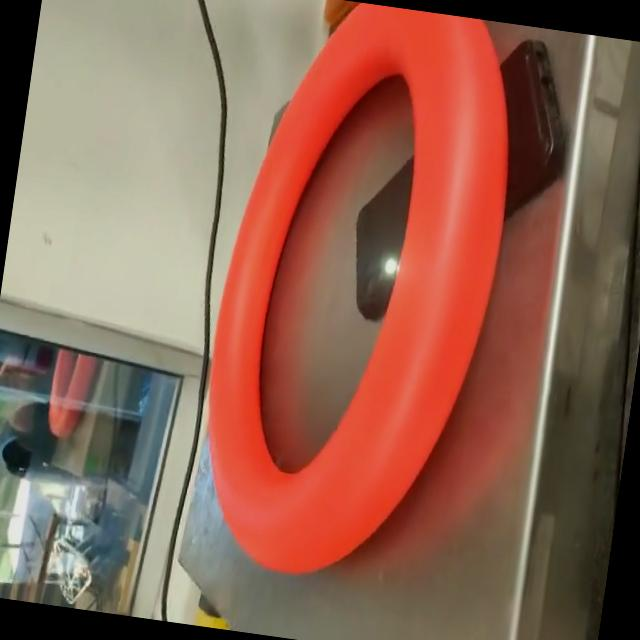note: (179, 0, 536, 601)
